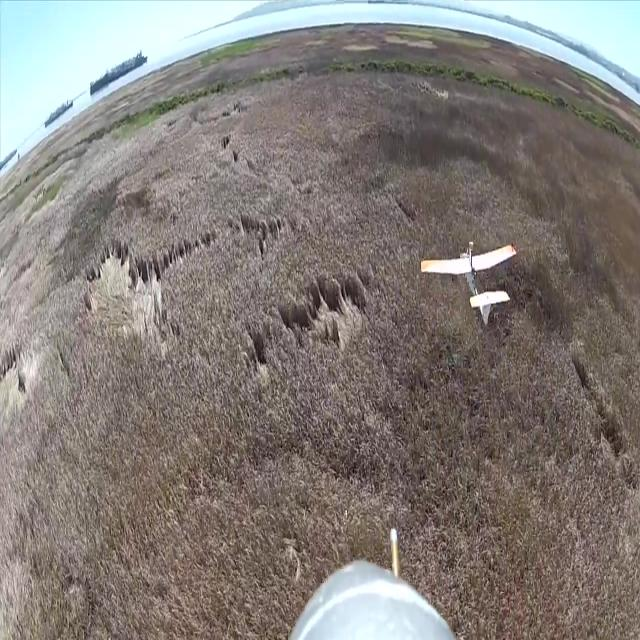iha: (450, 270, 488, 298)
